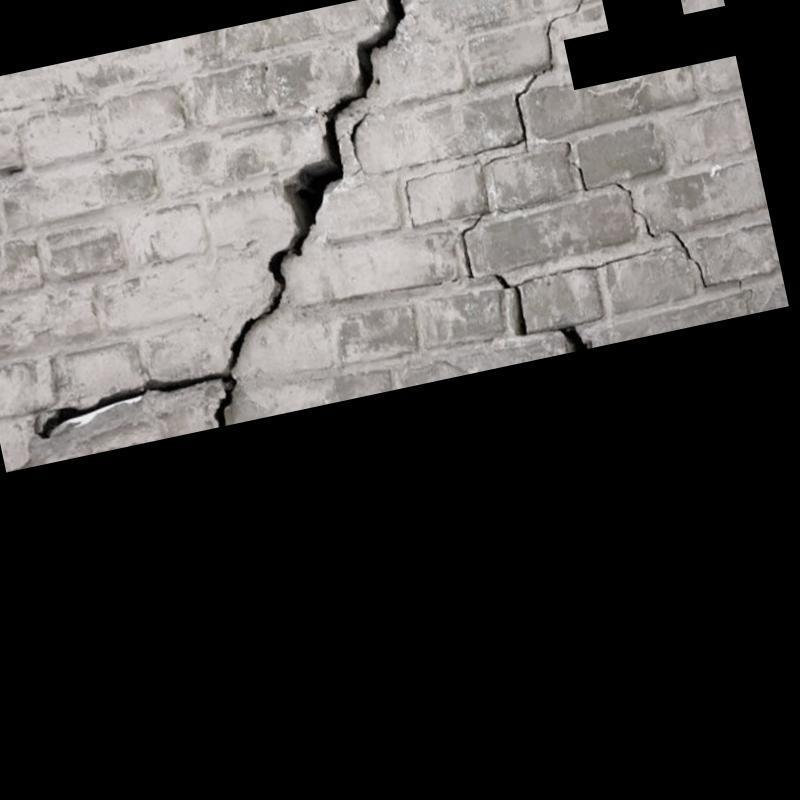pothole: (39, 0, 403, 439), (471, 0, 585, 158), (561, 139, 657, 240), (517, 246, 661, 287), (668, 229, 744, 292), (460, 211, 485, 279), (350, 113, 369, 164), (551, 327, 587, 352), (513, 283, 529, 337), (491, 272, 511, 290)
